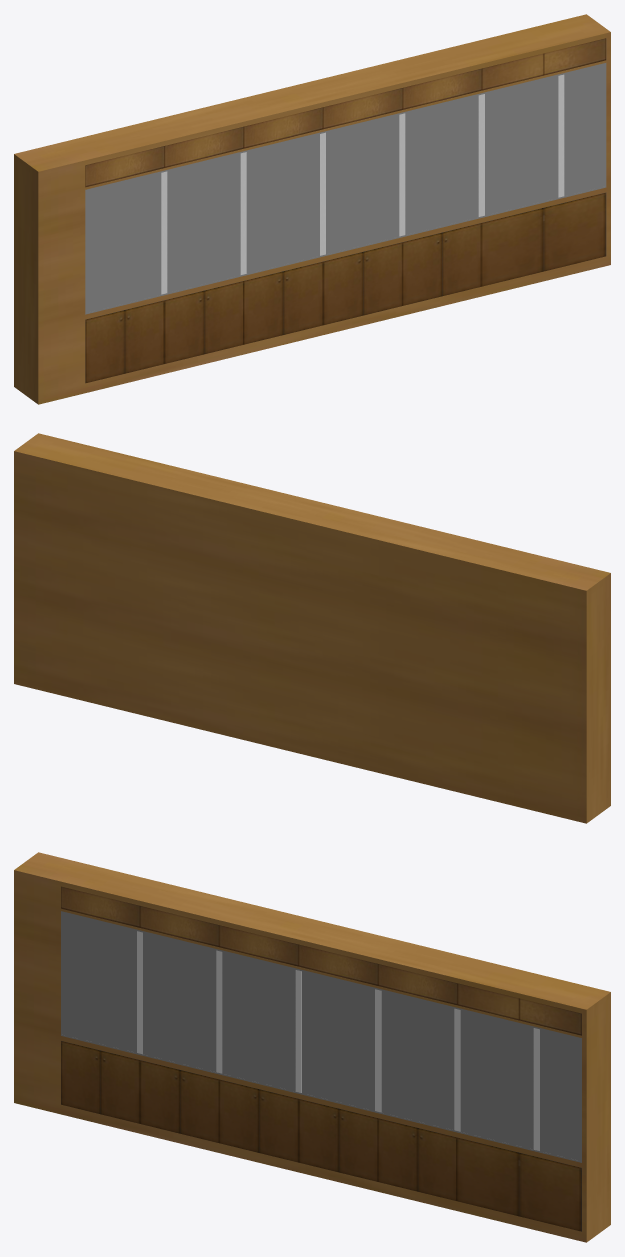
3 views of the same model, one above another, from view 1: azimuth 30°, elevation 25°; view 2: azimuth 150°, elevation 25°; view 3: azimuth 330°, elevation 25° (orthographic).
Visible parts, largest first — view 1: Box005, Box016, Box007, Box010, Box011, Box008, Box026, Box009; view 2: Box005; view 3: Box005, Box016, Box011, Box008, Box010, Box009, Box026, Box007.
Boxes of the visible parts, x1,y1,x2,y2 form: Box005: (14,14,610,404); Box016: (86,64,604,312); Box007: (161,171,167,294); Box010: (399,113,405,236); Box011: (478,94,484,216); Box008: (240,152,246,274); Box026: (558,74,564,197); Box009: (320,132,325,255); Box005: (14,433,610,823); Box005: (14,852,610,1242); Box016: (62,913,580,1160); Box011: (454,1008,460,1131); Box008: (216,950,222,1073); Box010: (375,989,381,1112); Box009: (295,970,301,1092); Box026: (533,1028,539,1150); Box007: (137,931,142,1054).
Bounding box in the file's own units: 6098 × 2370 × 450.
Materials: 6 (3 with a texture image).
